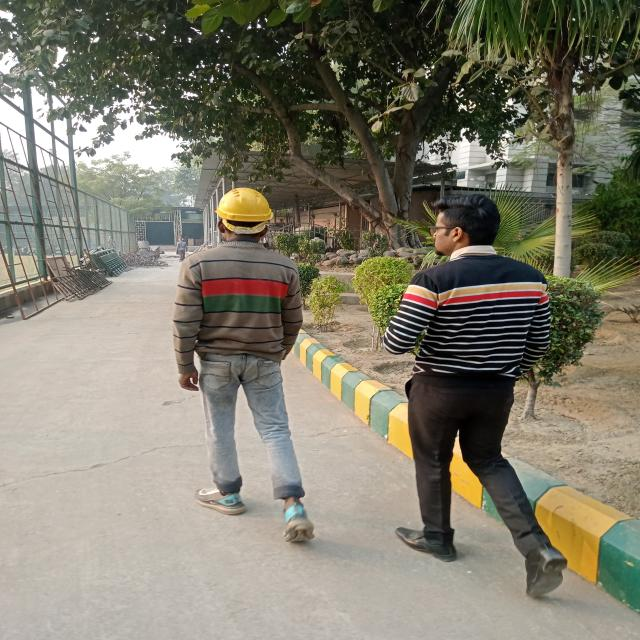no jacket: (169, 188, 317, 543)
unsafe: (387, 189, 568, 596)
